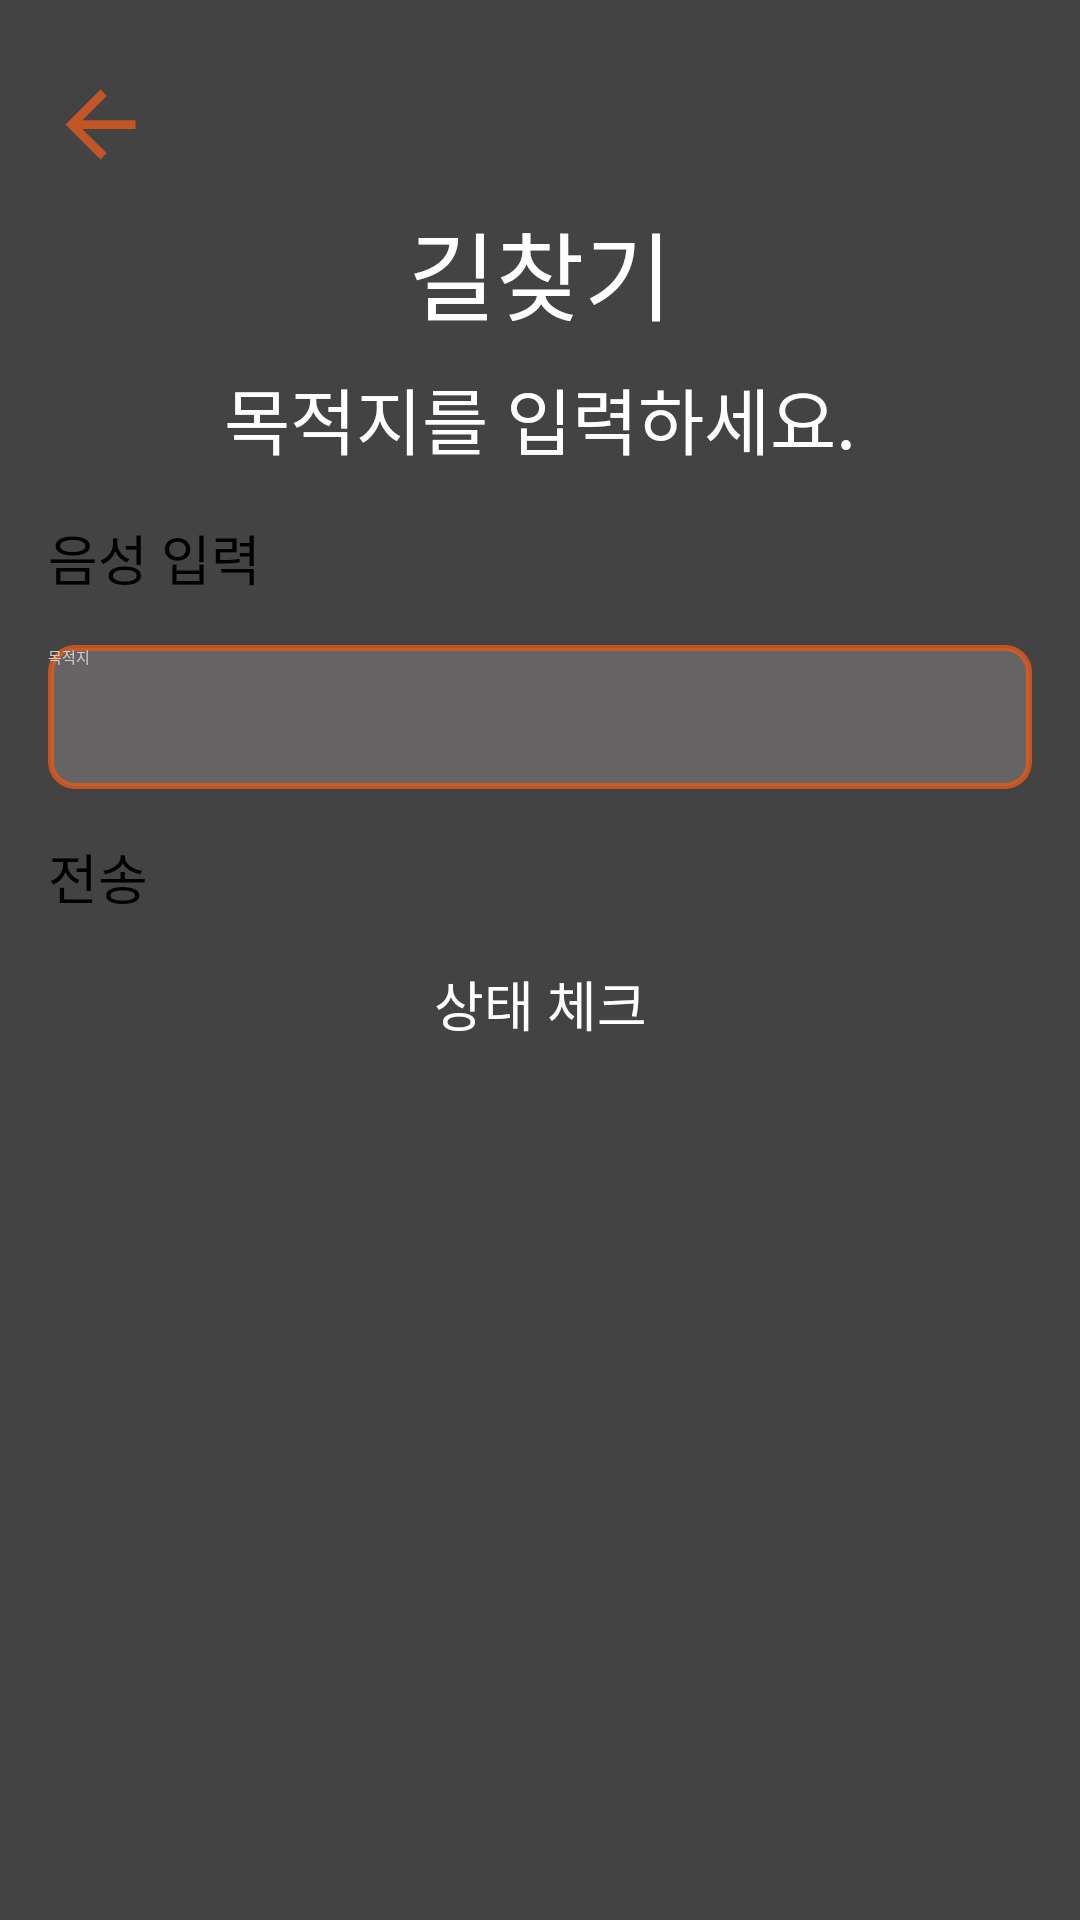

Icons on this 1080x1920 Android screen, each with the point to tap as (x=x, y=y):
뒤로가기 버튼입니다: (x=100, y=124)
